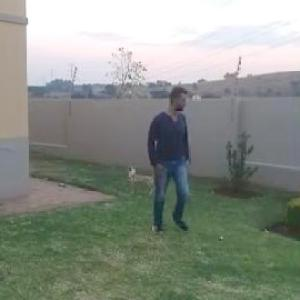follow: (145, 85, 191, 229)
